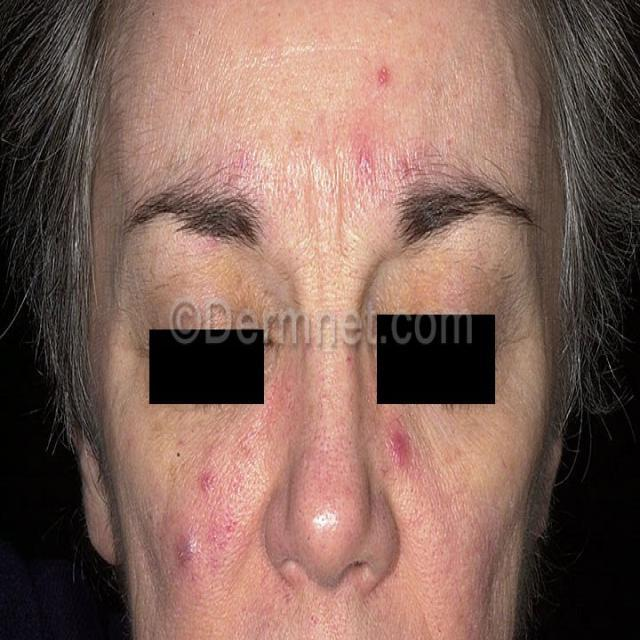Rosacea: (214, 62, 404, 187), (162, 436, 269, 580), (373, 414, 439, 498)
